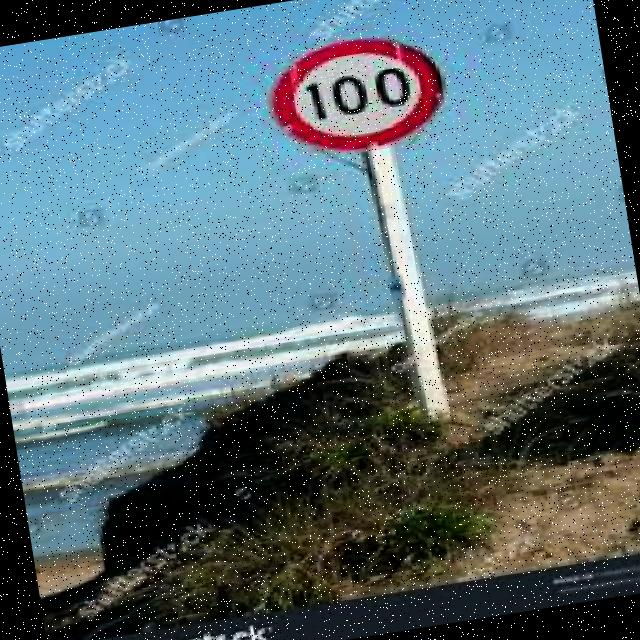Ograniczenie predkosci do 100: (265, 30, 454, 163)
